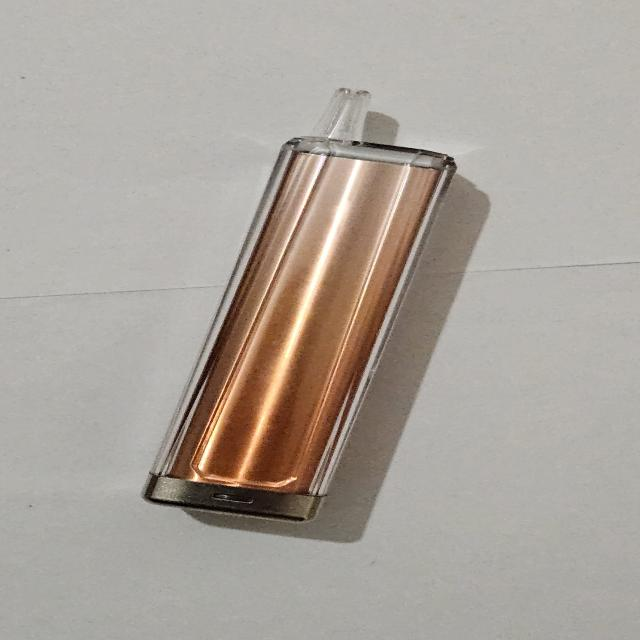Hazard: (142, 87, 458, 523)
